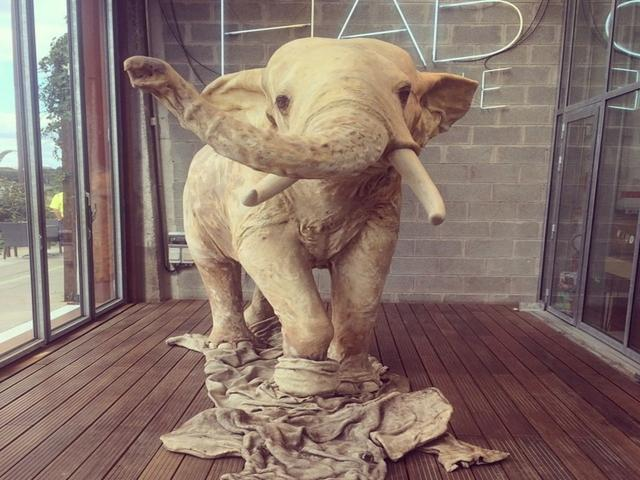elephant: (96, 8, 493, 448)
